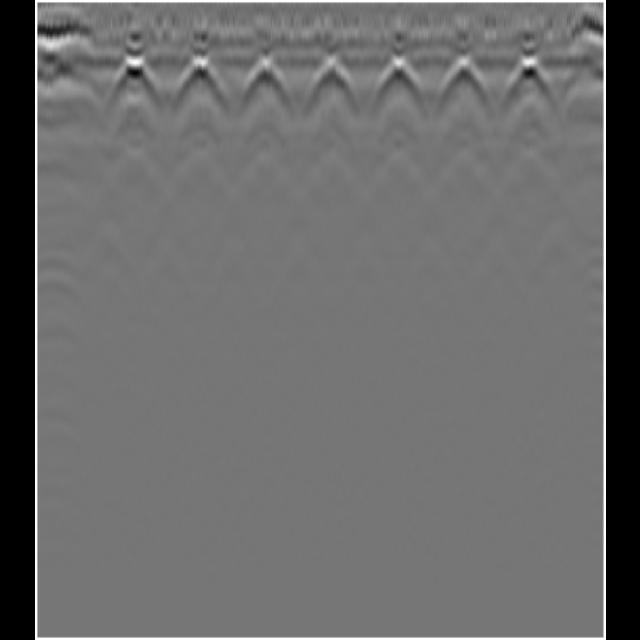hyperbola: (362, 55, 426, 107), (170, 53, 228, 105), (431, 54, 491, 104), (237, 53, 293, 105), (497, 53, 553, 103), (106, 52, 162, 102), (306, 54, 356, 102)
